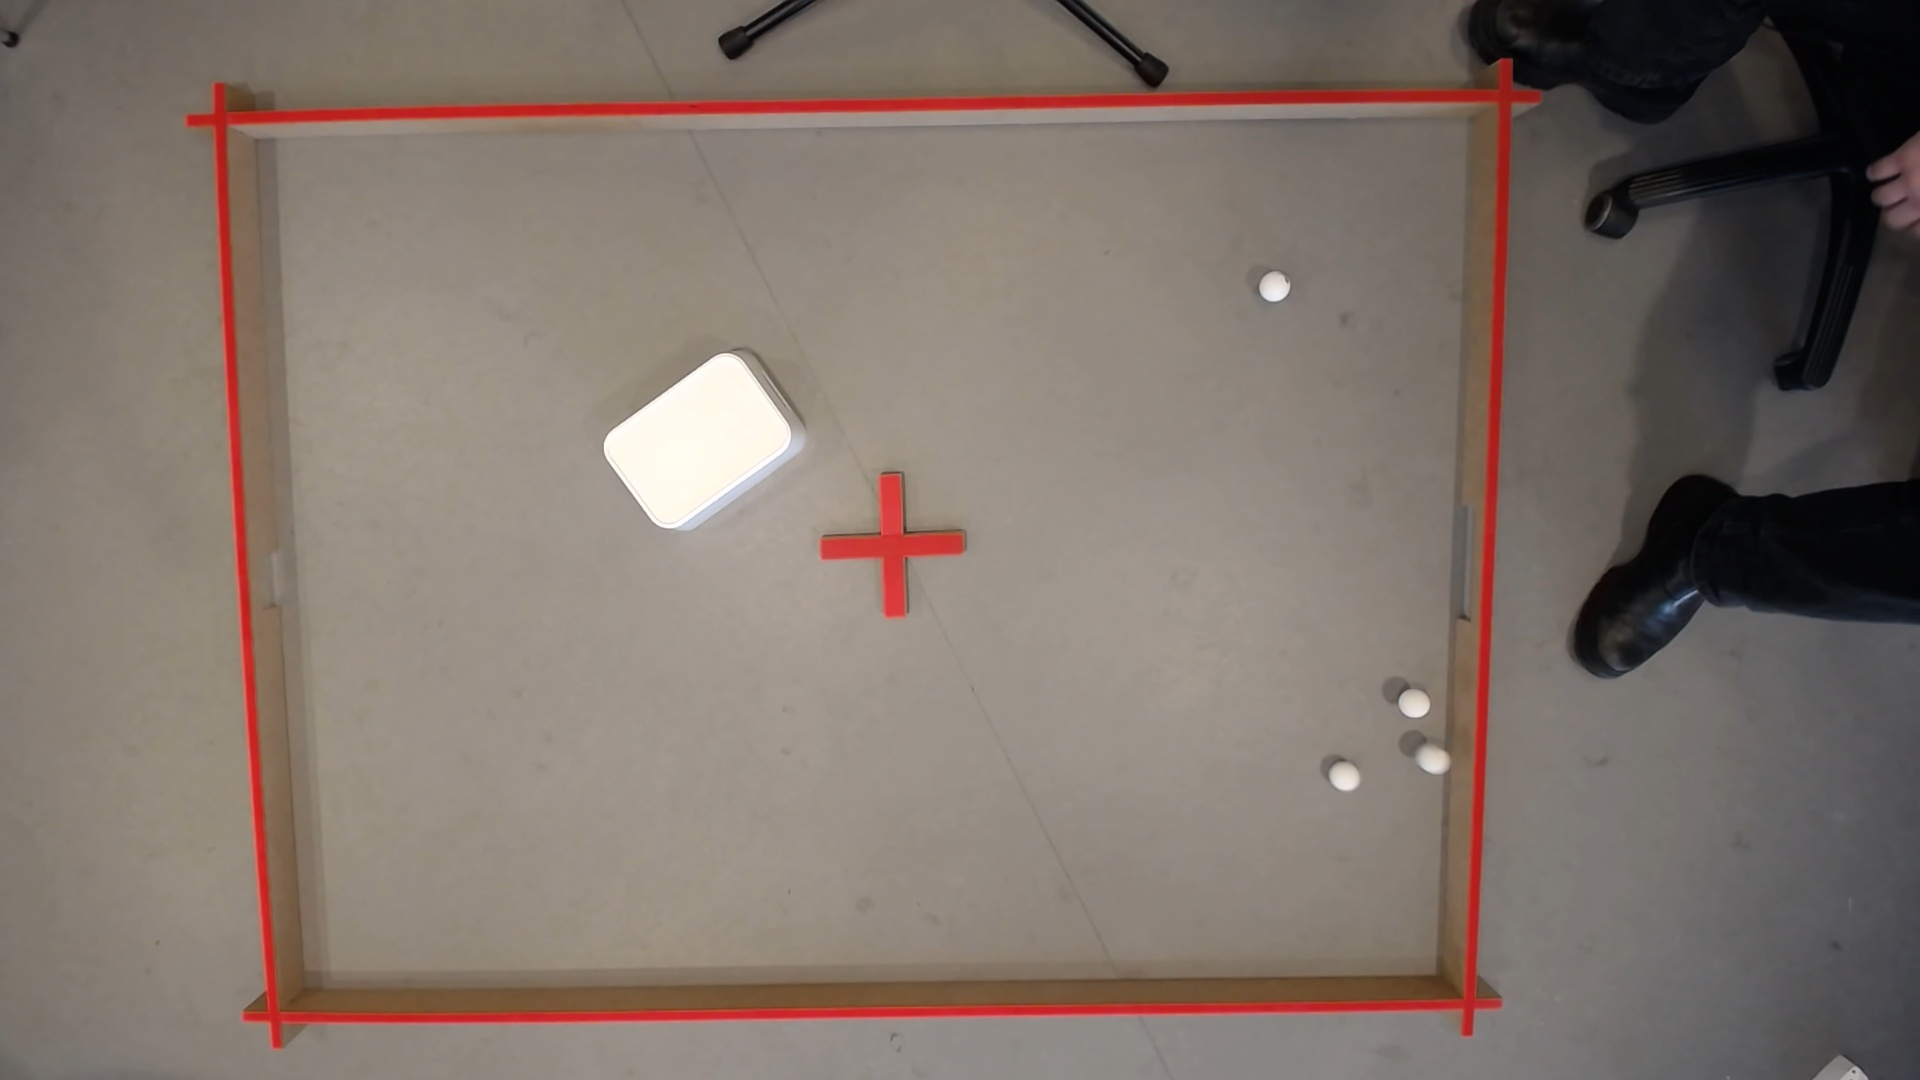balls: (592, 342, 806, 546), (1254, 268, 1294, 307), (1395, 686, 1432, 723), (1331, 766, 1358, 790)
car: (1420, 750, 1447, 773)
